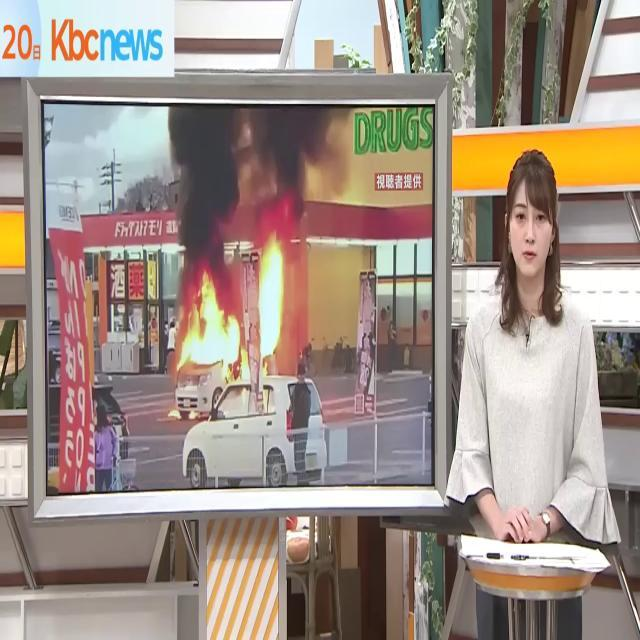Fire: (172, 226, 292, 394), (255, 225, 291, 366)
Smoke: (158, 101, 351, 256)
